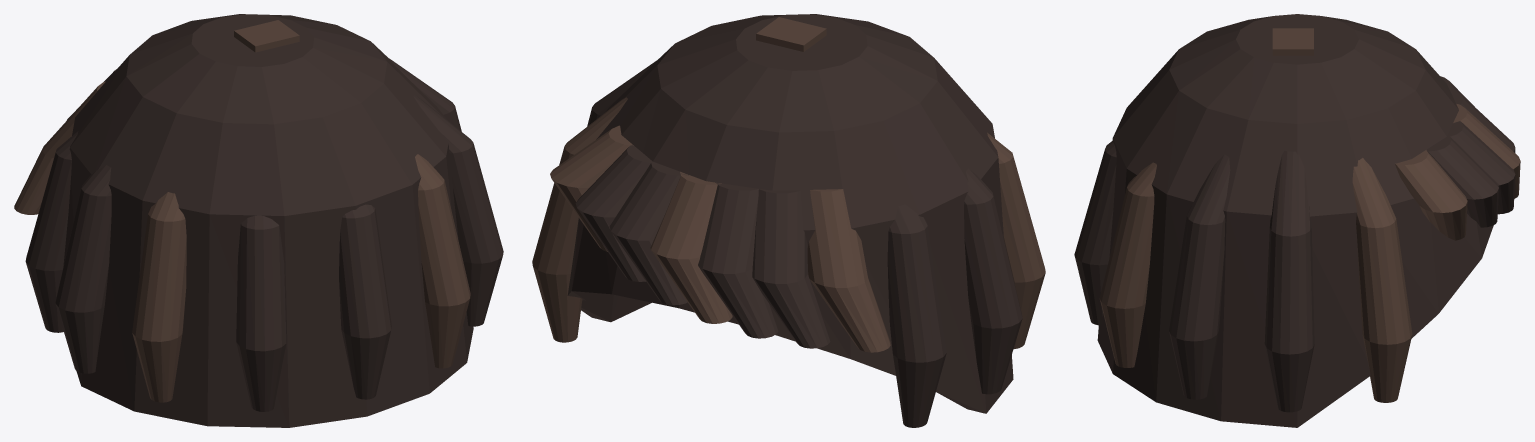
File: CHAR-086.glb
The picture shows the model from 3 angles, left to right: view 1: azimuth 30°, elevation 25°; view 2: azimuth 150°, elevation 25°; view 3: azimuth 270°, elevation 25°; orthographic projection. The views are drawn at different scales.
Parts seen in each view (by area): view 1: 侧分短发细体素母版; view 2: 侧分短发细体素母版; view 3: 侧分短发细体素母版.
Boxes of the visible parts, box(x1,y1,x2,y2) form: 侧分短发细体素母版: box(14, 14, 503, 427); 侧分短发细体素母版: box(532, 14, 1045, 427); 侧分短发细体素母版: box(1074, 14, 1520, 427).
Bounding box in the file's own units: 0.2838 × 0.2 × 0.268.
Materials: 2 (2 with a texture image).
